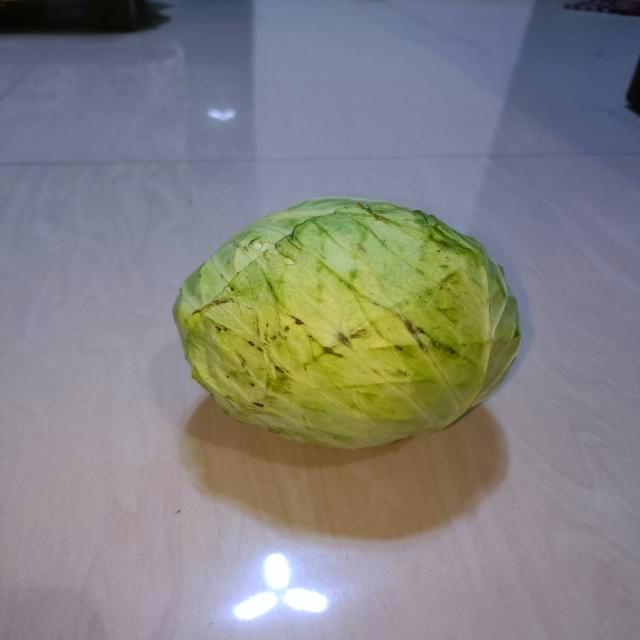cabbage: (165, 194, 528, 456)
